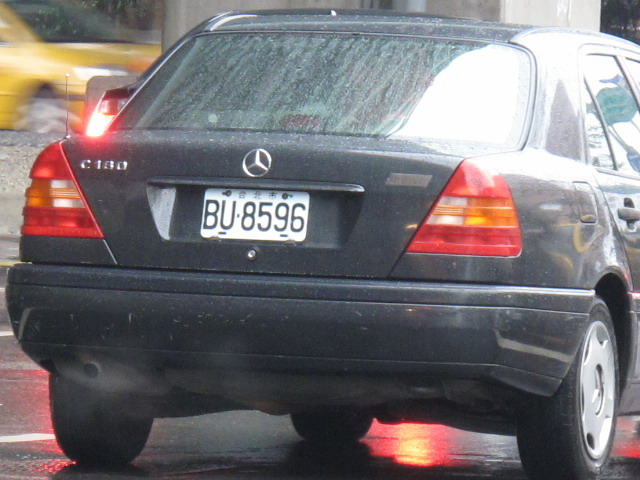plate: (199, 185, 312, 245)
